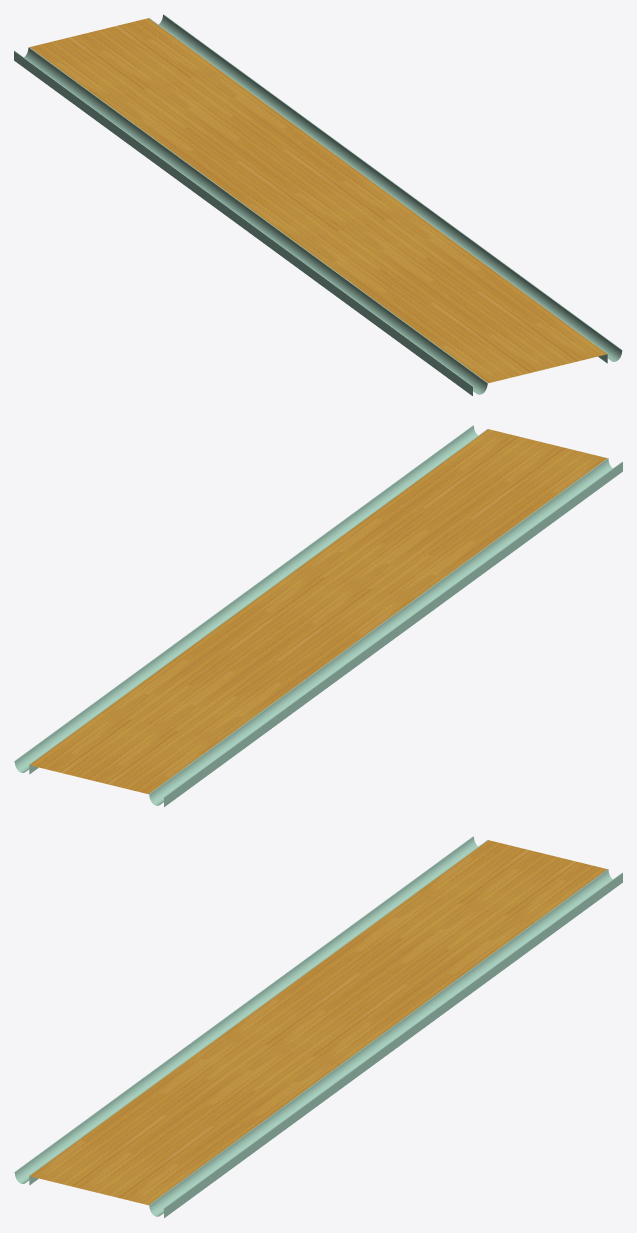
File: bwg_lane.glb
The picture shows the model from 3 angles, top to bottom: view 1: azimuth 30°, elevation 25°; view 2: azimuth 150°, elevation 25°; view 3: azimuth 330°, elevation 25°; orthographic projection.
Parts seen in each view (by area): view 1: polygon0, polygon2, polygon1; view 2: polygon0, polygon2, polygon1; view 3: polygon0, polygon1, polygon2.
Boxes of the visible parts, x1,y1,x2,y2 form: polygon0: (29,18,607,383); polygon2: (14,47,487,395); polygon1: (149,14,622,363); polygon0: (29,429,607,794); polygon2: (149,458,622,806); polygon1: (14,425,487,774); polygon0: (29,840,607,1205); polygon1: (149,869,622,1217); polygon2: (14,836,487,1185).
Size of the model in its own units: 49 by 3 by 260.
2 materials, 2 textured.
